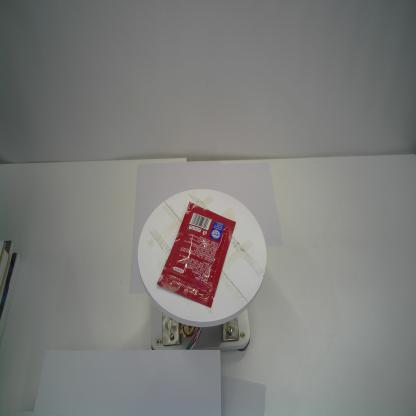Seasoner: (156, 201, 237, 308)
